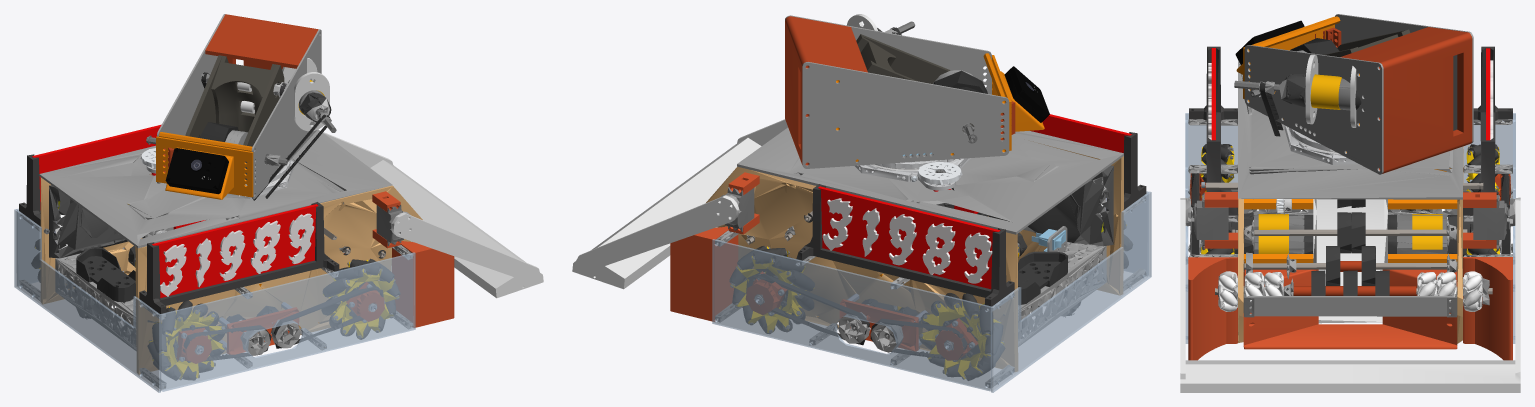
Rendered from full-bot-sculpture.glb.
The picture shows the model from 3 angles, left to right: view 1: azimuth 30°, elevation 25°; view 2: azimuth 150°, elevation 25°; view 3: azimuth 270°, elevation 25°; orthographic projection. The views are drawn at different scales.
Visible parts, largest first — view 1: frame, right-drive, shooter, intake, electronics, left-drive, turret; view 2: frame, left-drive, shooter, intake, electronics, right-drive, turret; view 3: intake, frame, shooter, right-drive, left-drive, turret.
Boxes of the visible parts, x1,y1,x2,y2 form: frame: (14, 124, 392, 392); right-drive: (135, 185, 454, 391); shooter: (146, 14, 336, 200); intake: (323, 132, 543, 298); electronics: (49, 185, 154, 322); left-drive: (17, 174, 151, 303); turret: (140, 148, 293, 198); frame: (737, 114, 1151, 392); left-drive: (670, 166, 1017, 391); shooter: (785, 14, 1049, 168); intake: (572, 119, 812, 322); electronics: (909, 165, 1113, 315); right-drive: (988, 141, 1148, 295); turret: (855, 158, 970, 191); intake: (1180, 182, 1520, 392); frame: (1185, 46, 1515, 323); shooter: (1234, 14, 1473, 174); right-drive: (1185, 114, 1253, 360); left-drive: (1447, 114, 1515, 360); turret: (1284, 125, 1357, 164).
Bounding box in the file's own units: 0.5665 × 0.3591 × 0.3823.
